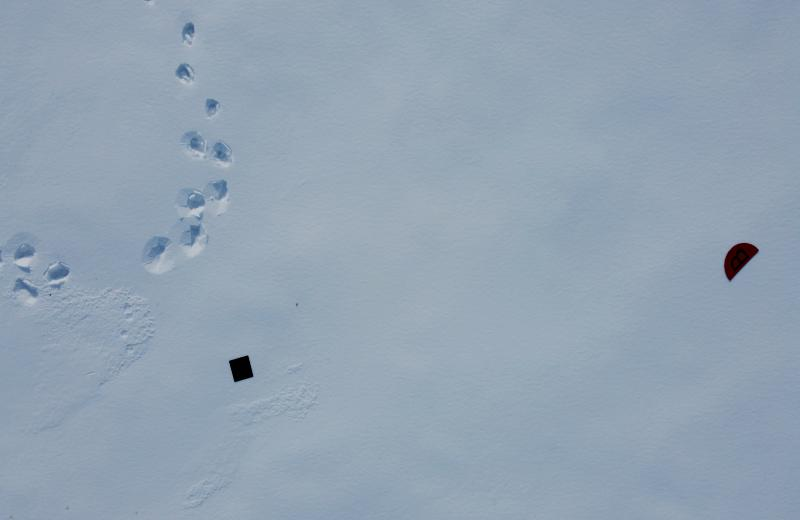Semi Circle: (723, 241, 761, 284)
Square: (228, 353, 255, 383)
